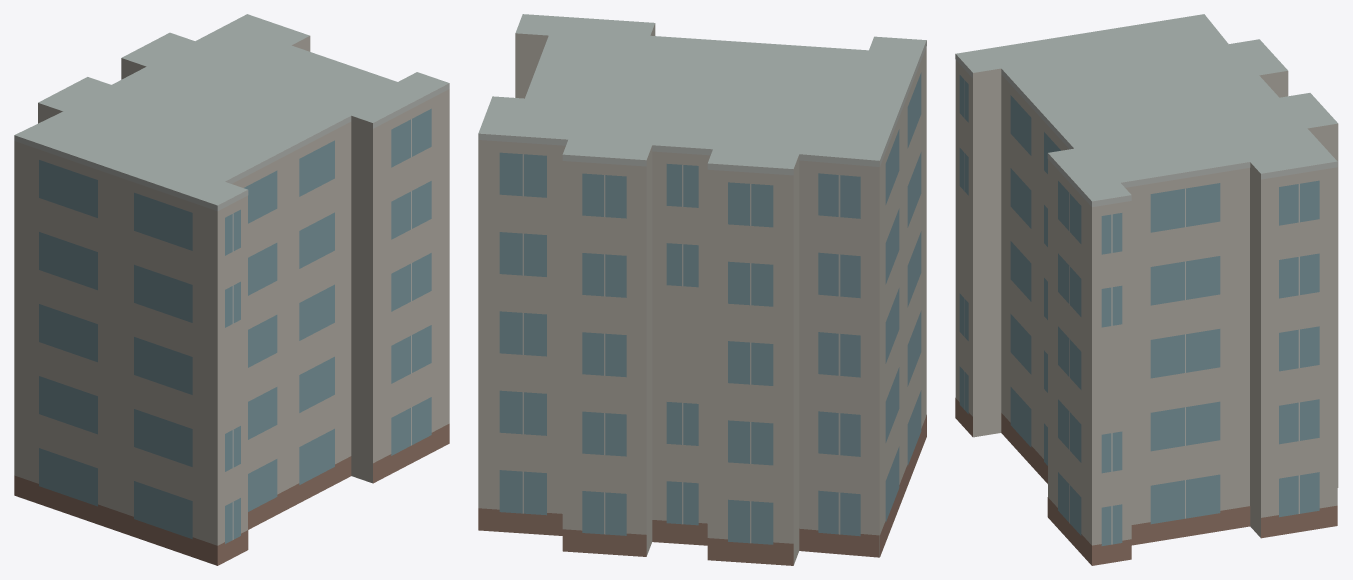
The model's file is survey-upis-32914265.glb.
3 renders of one model, left to right at view 1: azimuth 30°, elevation 25°; view 2: azimuth 150°, elevation 25°; view 3: azimuth 270°, elevation 25°, orthographic. The views are drawn at different scales.
Visible parts, largest first — view 1: survey-upis-32914265.tmp; view 2: survey-upis-32914265.tmp; view 3: survey-upis-32914265.tmp.
Part boxes in pixels (x1,y1,x2,y2): survey-upis-32914265.tmp: (14,14,449,565); survey-upis-32914265.tmp: (478,14,926,565); survey-upis-32914265.tmp: (955,14,1338,565).
Bounding box in the file's own units: 17 × 15.4 × 14.67.
